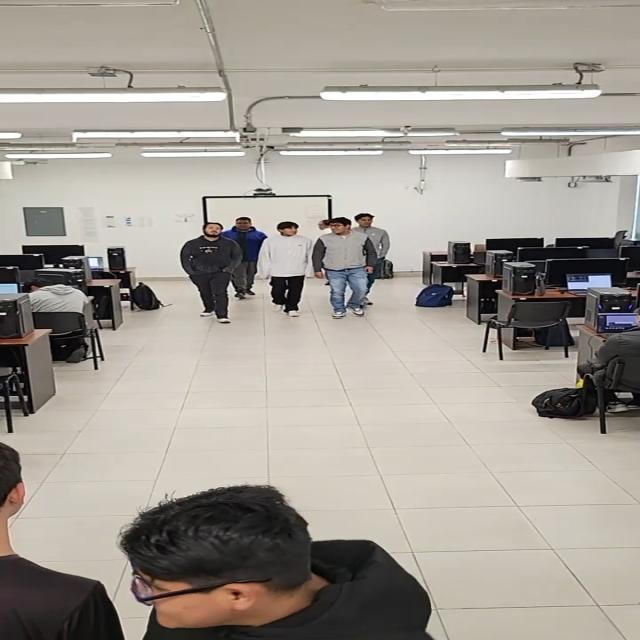Persona: (118, 484, 446, 640), (0, 441, 126, 640), (311, 217, 378, 320), (180, 222, 244, 324), (257, 221, 318, 317), (346, 212, 392, 306), (222, 217, 268, 299), (312, 214, 338, 243)
